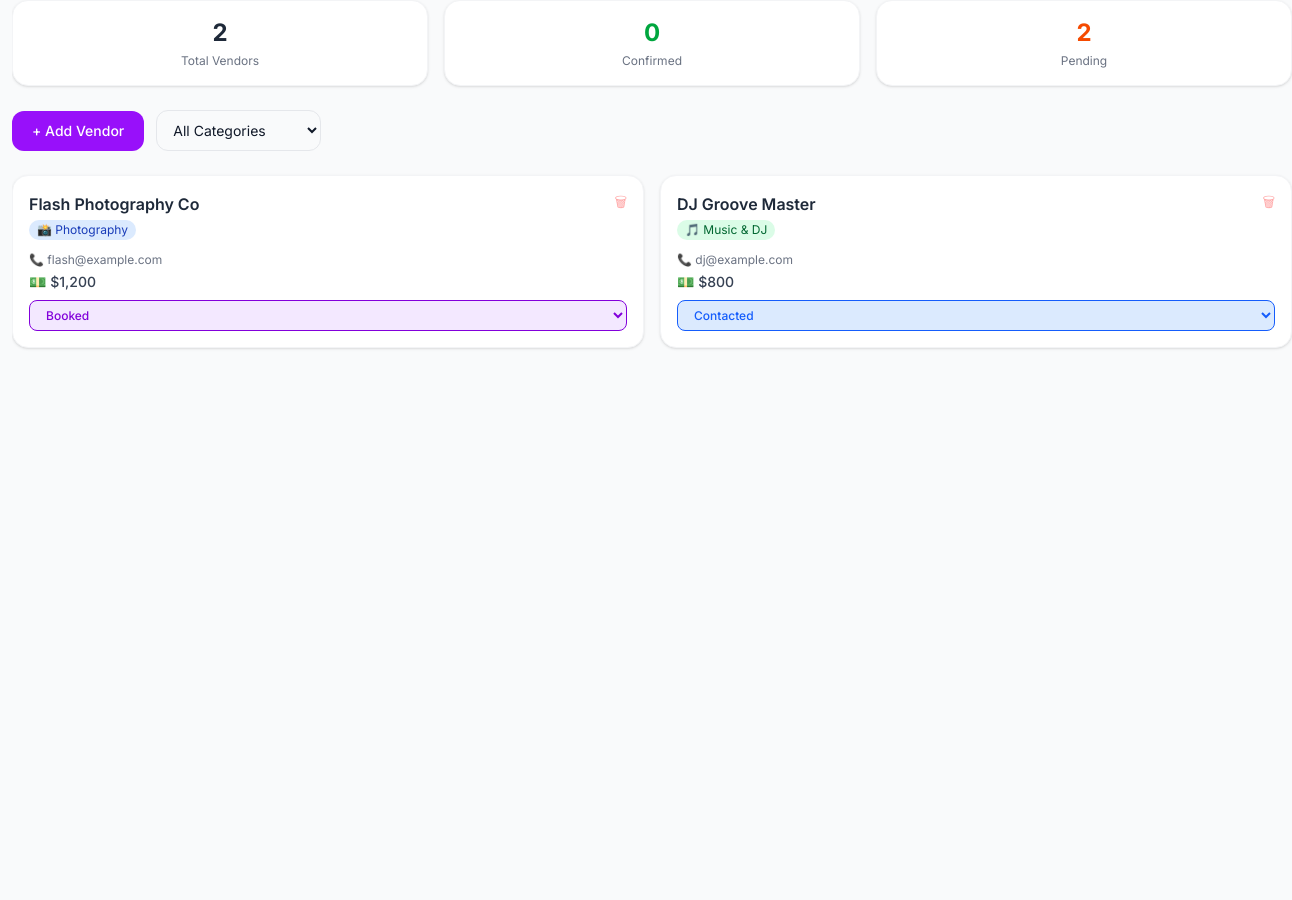
Scenario: VendorPanel component › allows opening and closing the new vendor form
The width and height of the screenshot is (1292, 900).
Click the button "+ Add Vendor" at (78, 130), box [12,110,144,150]
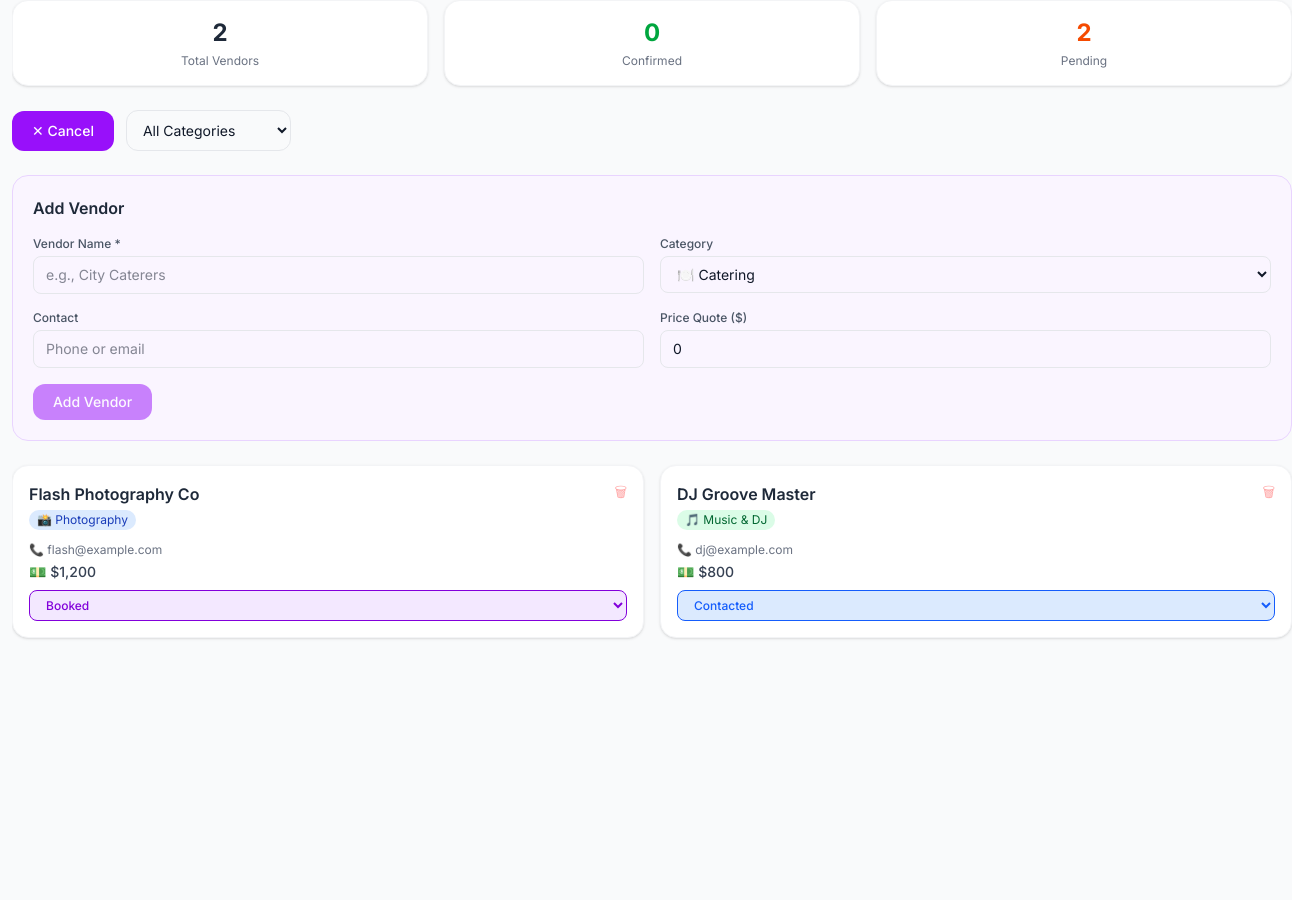
Check: the field labelled "Vendor Name *" is shown, box [33,256,644,294]
Click the button "✕ Cancel" at (63, 130), box [12,110,114,150]
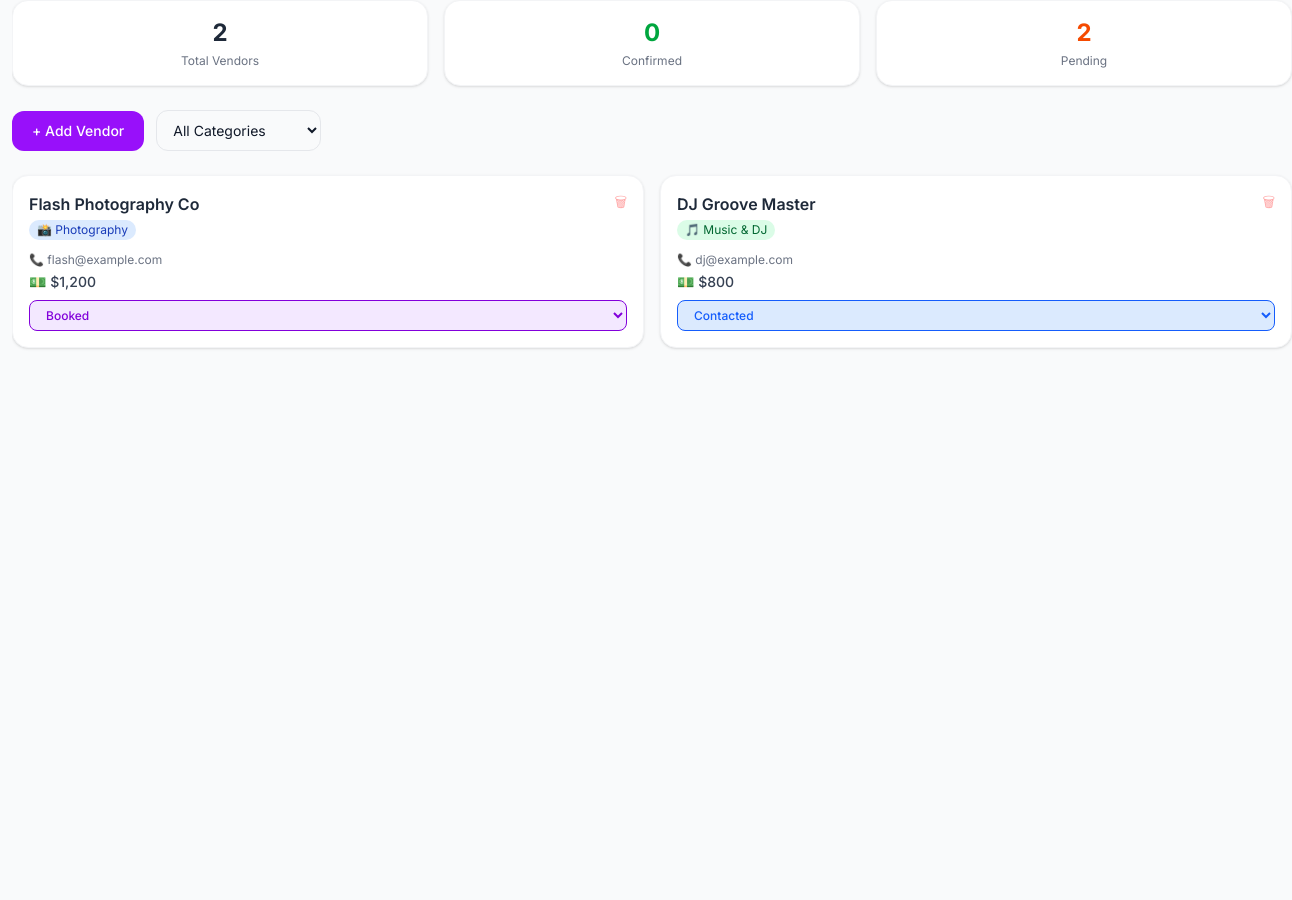
Check: the label labelled "Vendor Name" is gone
